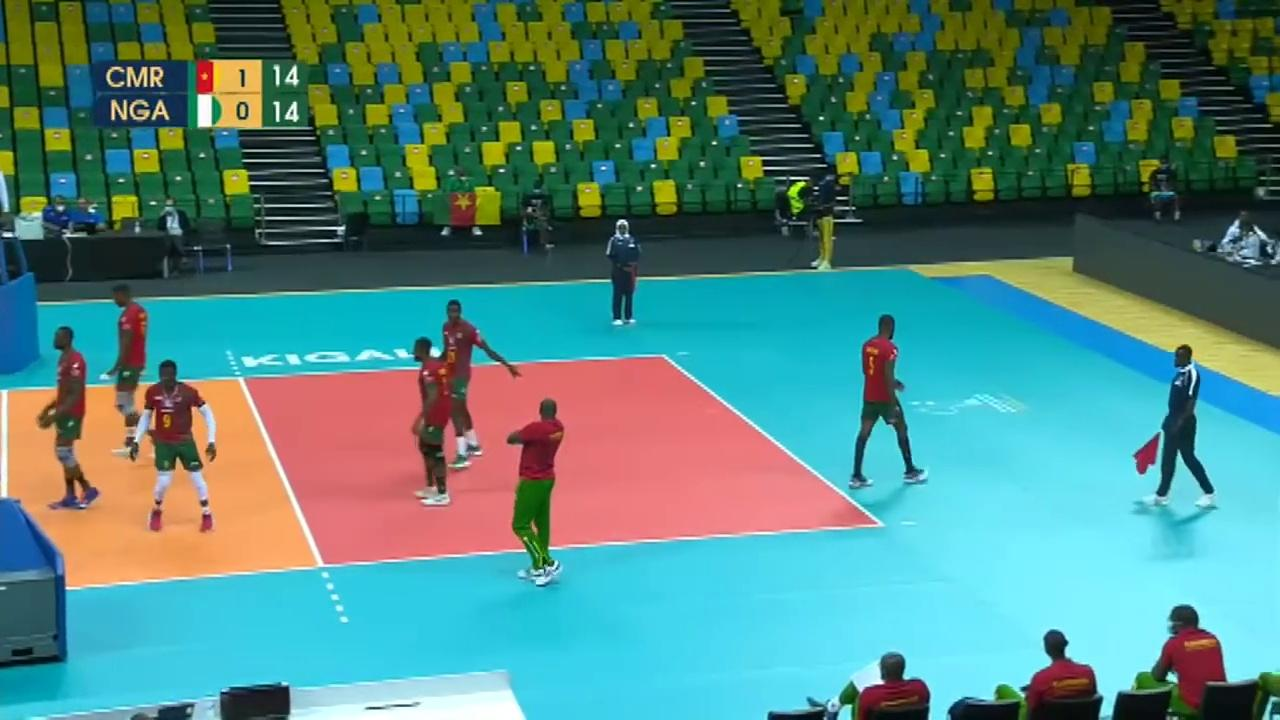player: (138, 360, 220, 536), (845, 319, 928, 485), (439, 301, 515, 469), (31, 325, 94, 509), (408, 336, 454, 504), (104, 284, 146, 456)
refree: (1136, 347, 1216, 507), (606, 220, 643, 325)
